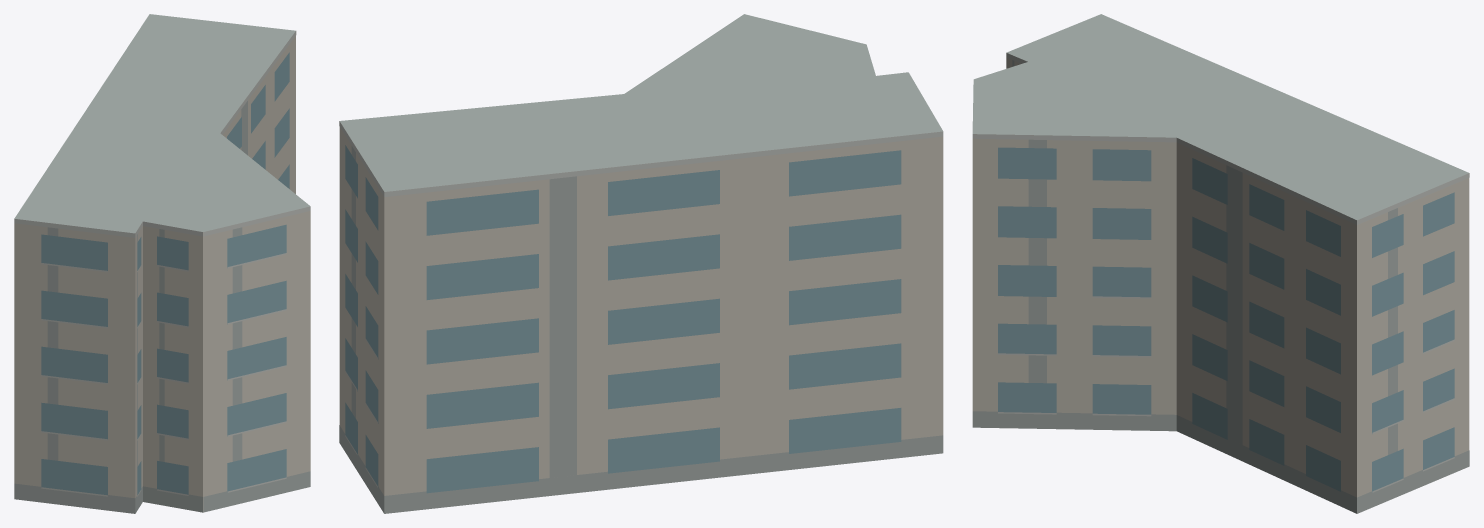
File: survey-upis-32668110.glb
The picture shows the model from 3 angles, left to right: view 1: azimuth 30°, elevation 25°; view 2: azimuth 150°, elevation 25°; view 3: azimuth 270°, elevation 25°; orthographic projection. The views are drawn at different scales.
Parts seen in each view (by area): view 1: survey-upis-32668110.tmp; view 2: survey-upis-32668110.tmp; view 3: survey-upis-32668110.tmp.
Part boxes in pixels (bbox=[...]): survey-upis-32668110.tmp: bbox=[14, 14, 310, 513]; survey-upis-32668110.tmp: bbox=[339, 14, 943, 513]; survey-upis-32668110.tmp: bbox=[972, 14, 1469, 513].
Size of the model in its own units: 23 by 15.25 by 23.4.
